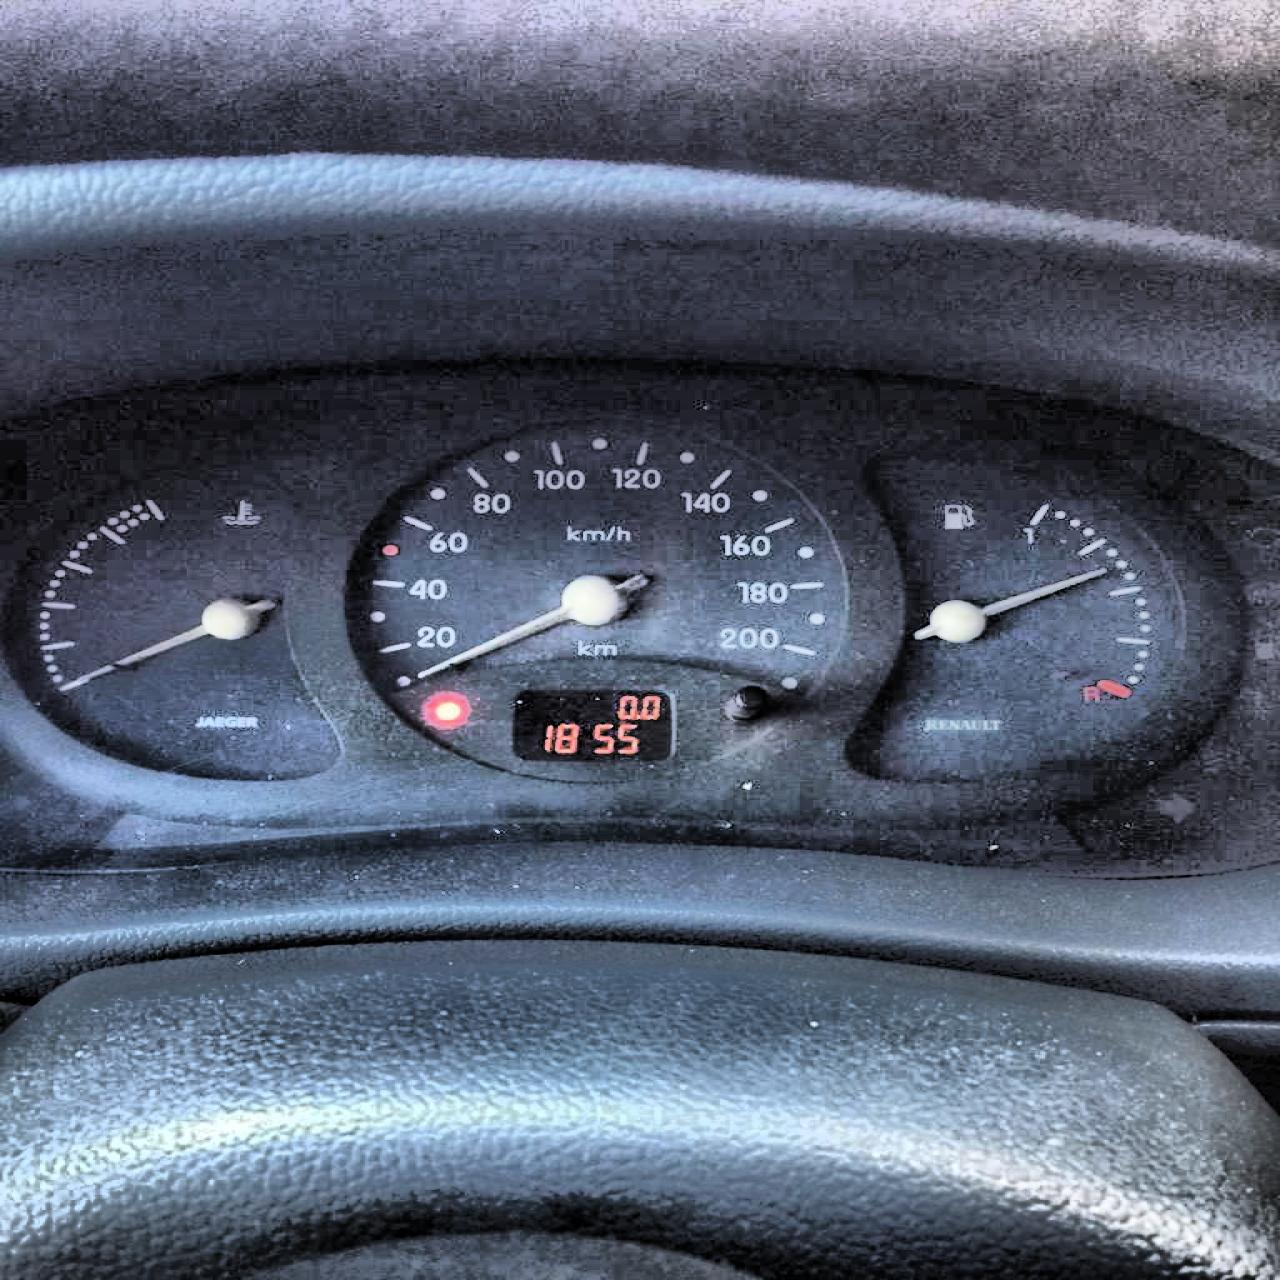-: (633, 713, 640, 719)
0: (640, 695, 659, 719), (617, 695, 635, 719)
1: (542, 724, 551, 750)
5: (617, 722, 636, 753), (592, 722, 612, 753)
8: (553, 722, 577, 753)
odometer: (506, 683, 676, 763)
